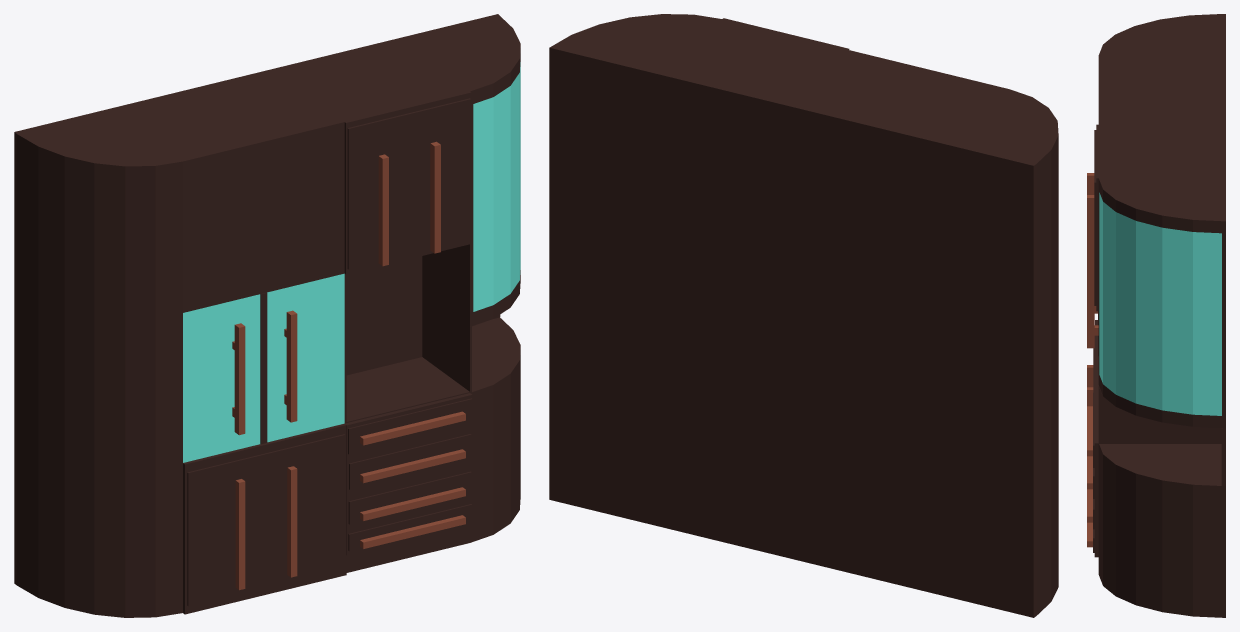
Rendered from tvMobile2.fbx.
The picture shows the model from 3 angles, left to right: view 1: azimuth 30°, elevation 25°; view 2: azimuth 150°, elevation 25°; view 3: azimuth 270°, elevation 25°; orthographic projection. The views are drawn at different scales.
Parts seen in each view (by area): view 1: Armadio, Armadio.001, Cassetti, Drawers, Cube, Cube.001, Cube.003, Cube.002, Cube.004, Cube.005, Cube.006, Cube.007 (+2 smaller); view 2: Armadio; view 3: Armadio, Drawers, Cassetti, Cube.002, Cube, Armadio.001, Cube.006.
Boxes of the visible parts, <box> form: Armadio: <box>14,14,520,617</box>; Armadio.001: <box>183,423,346,614</box>; Cassetti: <box>344,91,471,274</box>; Drawers: <box>345,393,472,555</box>; Cube: <box>284,310,297,422</box>; Cube.001: <box>232,323,245,435</box>; Cube.003: <box>378,154,388,266</box>; Cube.002: <box>430,141,440,253</box>; Cube.004: <box>287,466,297,577</box>; Cube.005: <box>235,479,245,590</box>; Cube.006: <box>360,411,465,445</box>; Cube.007: <box>360,449,465,483</box>; Armadio: <box>549,14,1058,617</box>; Armadio: <box>1098,14,1225,617</box>; Drawers: <box>1093,389,1098,557</box>; Cassetti: <box>1094,124,1098,311</box>; Cube.002: <box>1087,195,1094,291</box>; Cube: <box>1087,292,1098,348</box>; Armadio.001: <box>1093,320,1098,392</box>; Cube.006: <box>1087,406,1092,456</box>.
Size of the model in its own units: 772 by 688 by 219.
